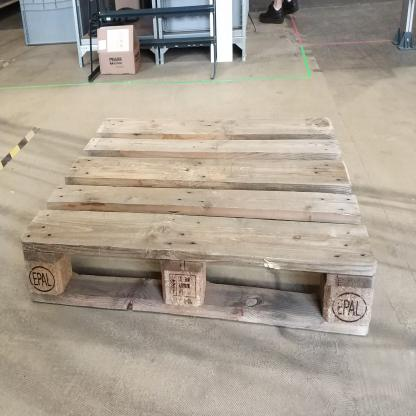BoxFace: (16, 109, 383, 346)
